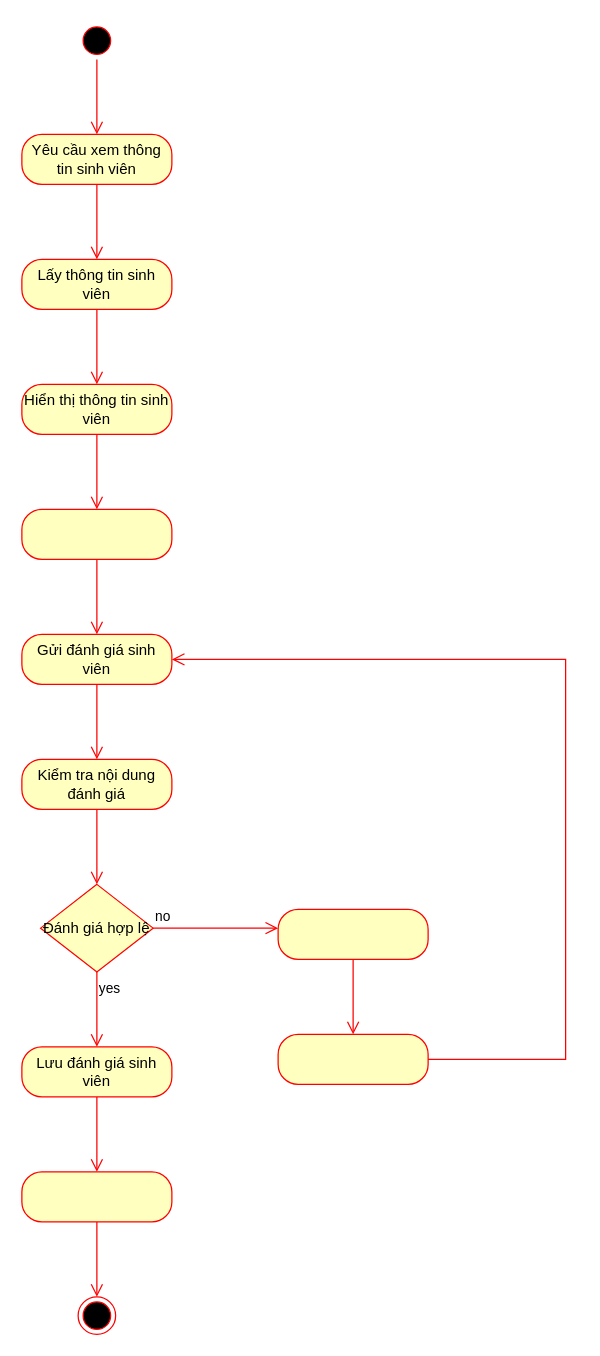
Some shapes in this 600 by 1356 pixel diagram are drawn without their labels. Each missing label, with the centre of its shape:
"Chỉnh sửa đánh giá" belongs at (x=352, y=1058).
"Nhập nội dung đánh giá" belongs at (x=96, y=533).
"Thông báo đánh giá không hợp lệ" belongs at (x=352, y=933).
"Thông báo đánh giá thành công" belongs at (x=96, y=1196).
